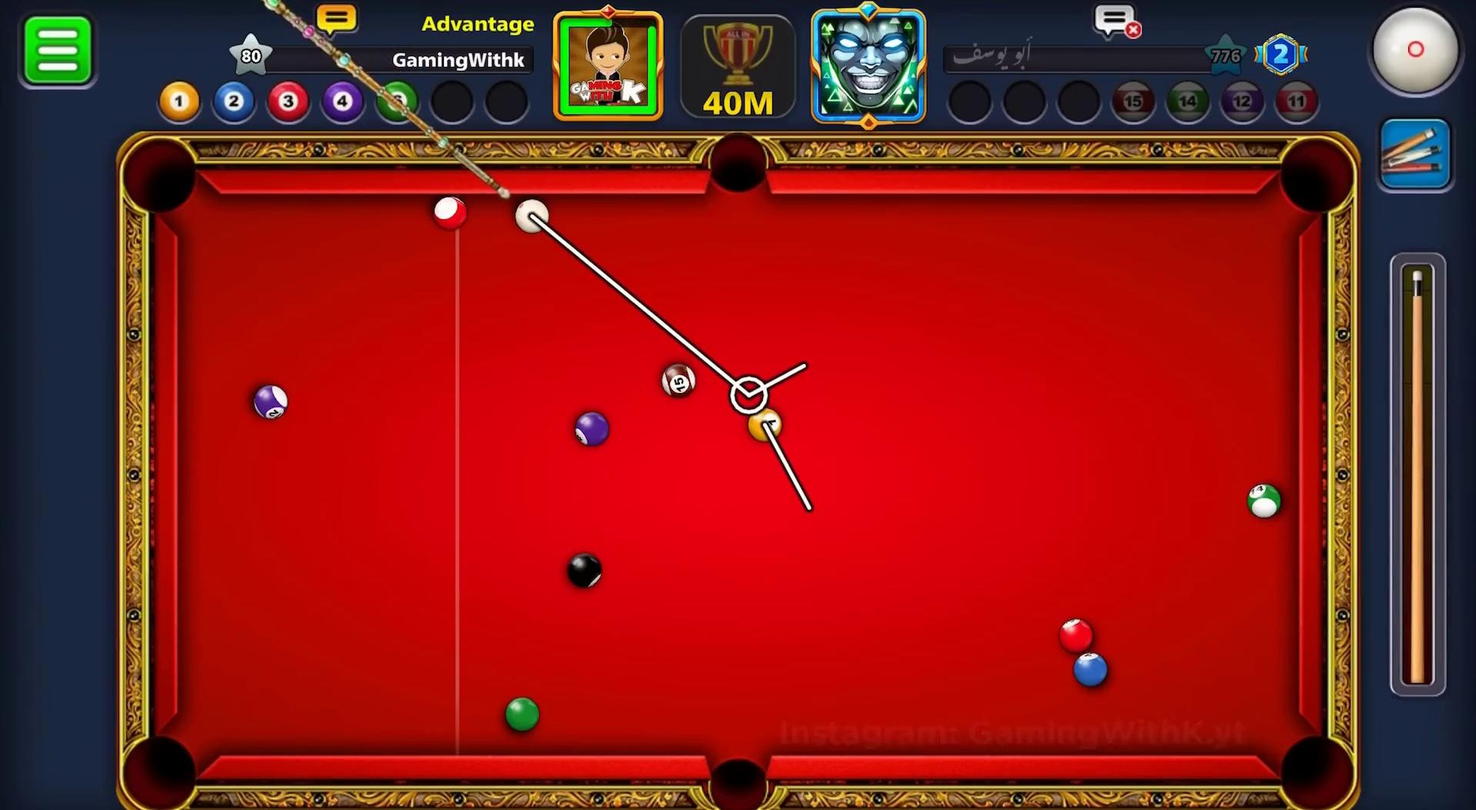Ball: (245, 375, 295, 425), (558, 548, 609, 592), (567, 408, 615, 452), (501, 692, 545, 738), (424, 192, 469, 230), (1054, 615, 1100, 652), (1247, 479, 1284, 525), (1071, 648, 1110, 691), (657, 360, 696, 398), (747, 403, 784, 443)
Force: (1391, 254, 1449, 707)
Guideline: (516, 200, 812, 511)
Hole: (100, 122, 219, 236), (1256, 719, 1373, 809), (1266, 122, 1364, 228), (696, 125, 778, 215), (691, 740, 783, 809), (122, 733, 199, 808)
Play_Area: (182, 192, 1294, 754)
Spin: (1363, 0, 1475, 106)
White: (507, 195, 553, 235)
